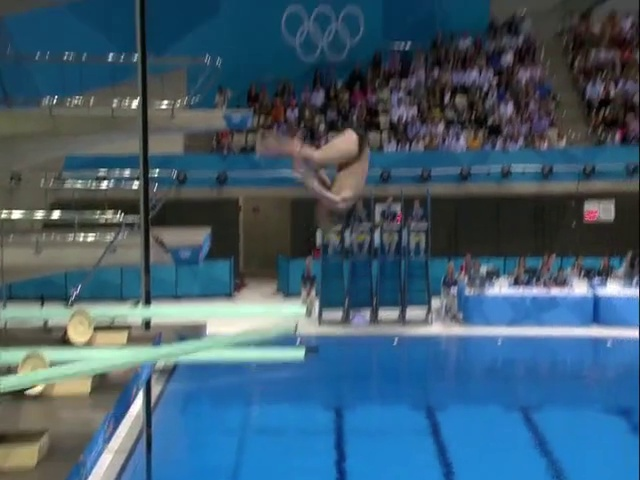diver: (261, 129, 369, 229)
